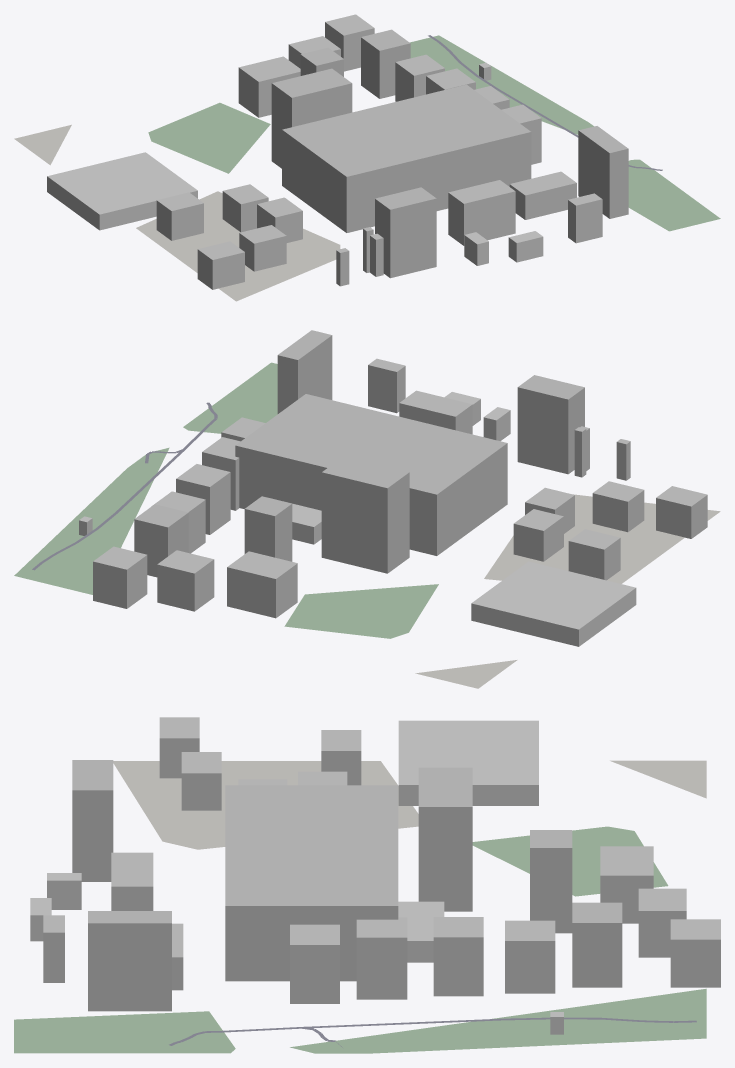
The model's file is 114_79_mid.glb.
3 views of the same model, one above another, from view 1: azimuth 30°, elevation 25°; view 2: azimuth 150°, elevation 25°; view 3: azimuth 270°, elevation 25° (orthographic). The views are drawn at different scales.
Bounding box in the file's own units: 534 × 83.66 × 510.
